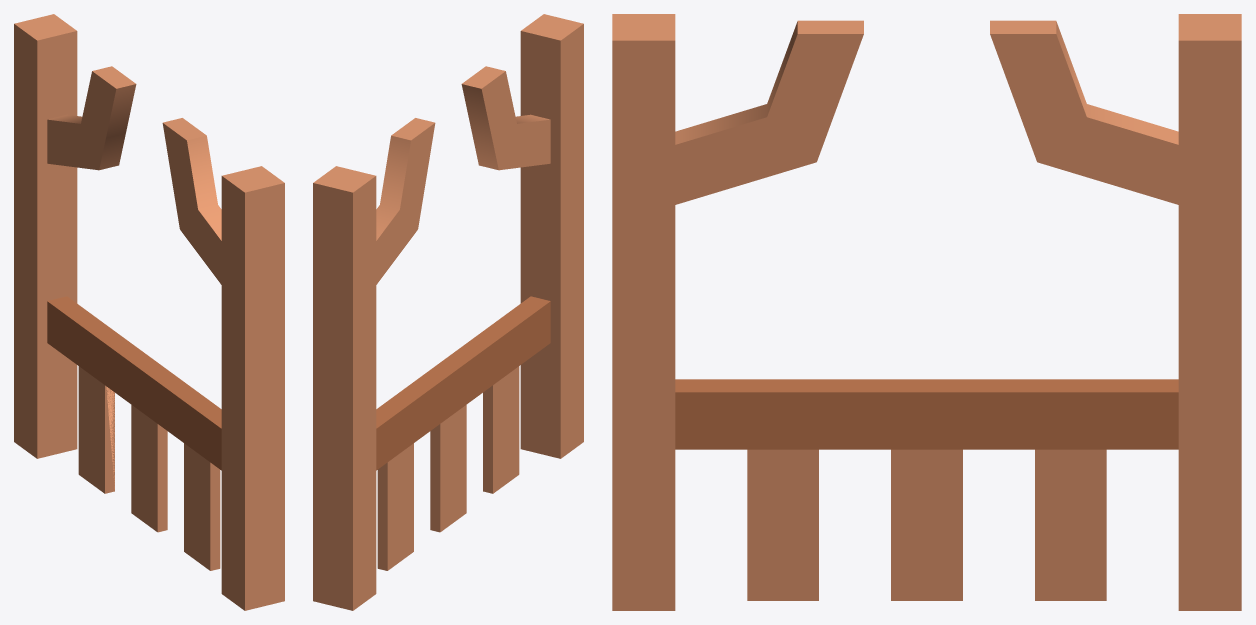
File: Fence.fbx
3 views of the same model, side by side, from view 1: azimuth 30°, elevation 25°; view 2: azimuth 150°, elevation 25°; view 3: azimuth 270°, elevation 25° (orthographic). The views are drawn at different scales.
Parts seen in each view (by area): view 1: PoteauDroit, PoteauGauche, Poutre, Latte3, Latte2, Latte1; view 2: PoteauGauche, PoteauDroit, Poutre, Latte1, Latte2, Latte3; view 3: PoteauDroit, PoteauGauche, Poutre, Latte3, Latte1, Latte2.
Boxes of the visible parts, <box> form: PoteauDroit: <box>162,118,284,610</box>; PoteauGauche: <box>14,14,136,458</box>; Poutre: <box>47,296,221,470</box>; Latte3: <box>78,366,114,493</box>; Latte2: <box>131,405,167,532</box>; Latte1: <box>184,443,220,570</box>; PoteauGauche: <box>313,118,435,610</box>; PoteauDroit: <box>461,14,583,458</box>; Poutre: <box>376,296,550,470</box>; Latte1: <box>483,366,519,493</box>; Latte2: <box>430,405,466,532</box>; Latte3: <box>377,443,413,570</box>; PoteauDroit: <box>612,14,863,610</box>; PoteauGauche: <box>990,14,1241,610</box>; Poutre: <box>675,379,1178,449</box>; Latte3: <box>1035,449,1106,600</box>; Latte1: <box>747,449,818,600</box>; Latte2: <box>891,449,962,600</box>.
Size of the model in its own units: 10 by 100 by 100.
